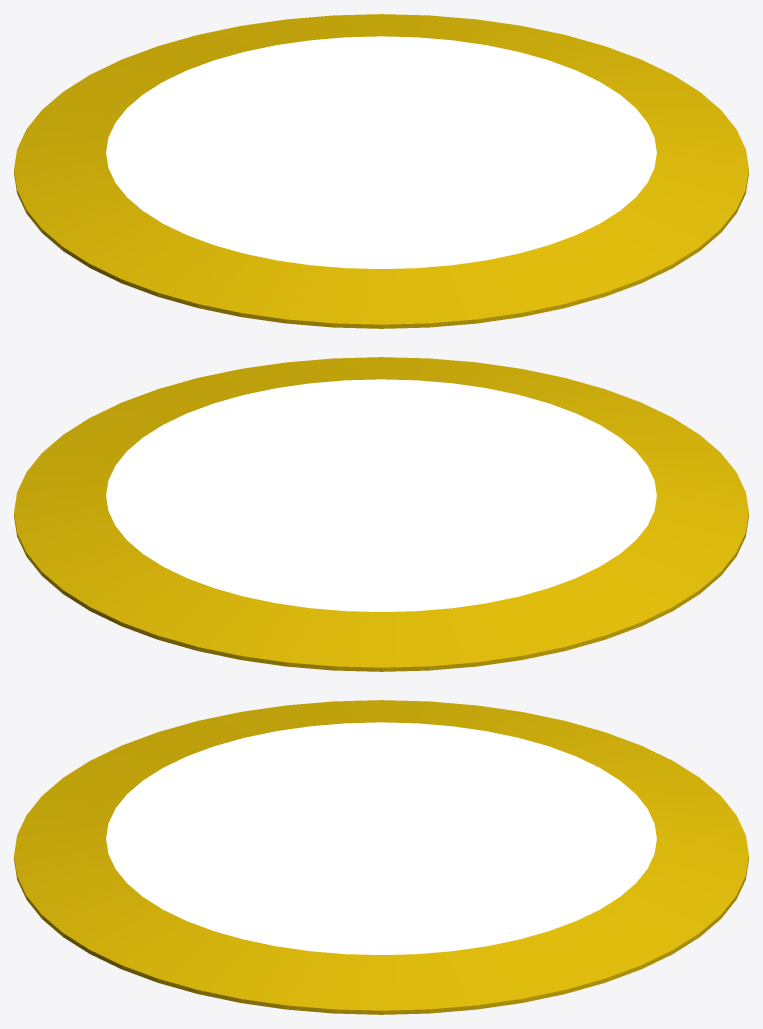
File: Exhbition pad.glb
The picture shows the model from 3 angles, top to bottom: view 1: azimuth 30°, elevation 25°; view 2: azimuth 150°, elevation 25°; view 3: azimuth 270°, elevation 25°; orthographic projection.
Parts seen in each view (by area): view 1: root; view 2: root; view 3: root.
Boxes of the visible parts, x1,y1,x2,y2 form: root: (14, 14, 748, 328); root: (14, 357, 748, 671); root: (14, 700, 748, 1014).
Size of what is drawn, in the model's own units: 2.88 by 0.162 by 2.88.
